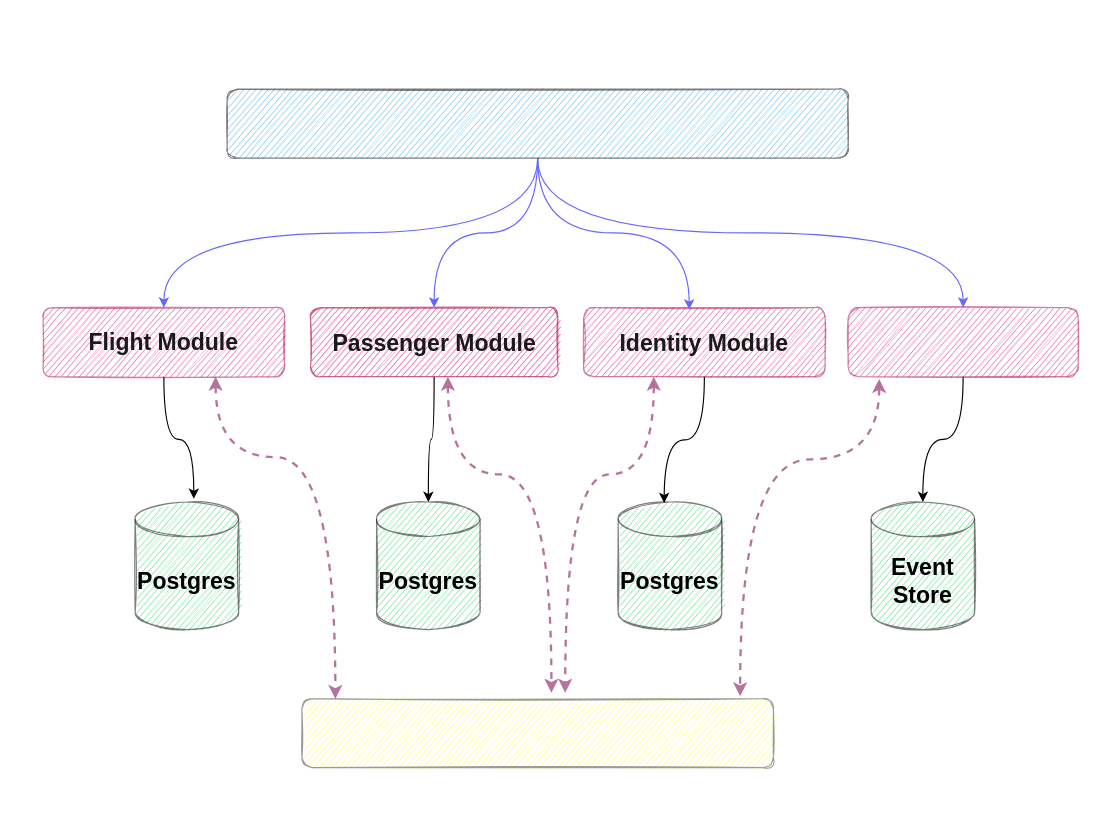
The diagram is 1120 pixels wide and 833 high, and some of its shapes have lost their labels. Here are the shapes that lost their labels. From the top down, the centre of each, then its label:
At point (537, 123): "Api".
At point (962, 341): "Booking Module".
At point (537, 732): "InMemory Broker".
